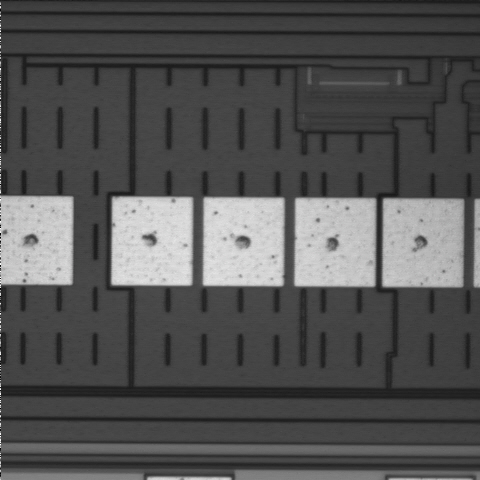pad: (203, 198, 284, 286), (112, 197, 192, 285), (295, 198, 375, 286), (383, 199, 462, 286)
